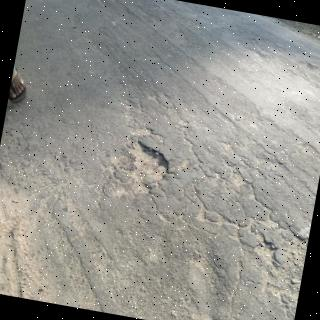pothole: (131, 143, 166, 190)
